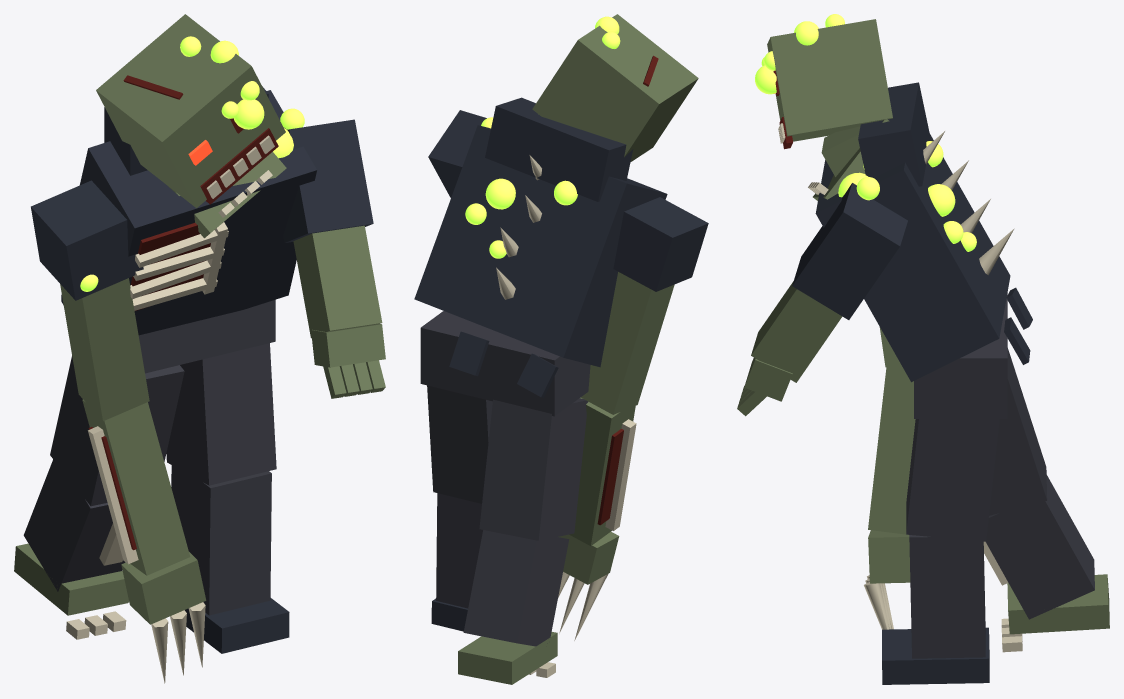
The model's file is zombie-el-brotado.glb.
3 renders of one model, left to right at view 1: azimuth 30°, elevation 25°; view 2: azimuth 150°, elevation 25°; view 3: azimuth 270°, elevation 25°, orthographic. The views are drawn at different scales.
Parts seen in each view (by area): view 1: pecho, craneo, muslo_izq, espinilla_izq, brazo_largo_der, antebrazo_largo_der, hombro_der, manga_izq, antebrazo_izq, espinilla_der, muslo_der, cadera (+20 smaller); view 2: pecho, craneo, muslo_der, espinilla_der, cadera, capucha, brazo_largo_der, hombro_der, muslo_izq, espinilla_izq, antebrazo_largo_der, pie_der (+10 smaller); view 3: pecho, craneo, muslo_izq, espinilla_der, espinilla_izq, manga_izq, cadera, antebrazo_largo_der, muslo_der, antebrazo_izq, capucha, pie_izq (+8 smaller).
Boxes of the visible parts, bbox=[...] form: pecho: bbox=[80, 90, 316, 335]; craneo: bbox=[96, 14, 285, 208]; muslo_izq: bbox=[166, 343, 276, 485]; espinilla_izq: bbox=[171, 465, 271, 615]; brazo_largo_der: bbox=[60, 278, 149, 421]; antebrazo_largo_der: bbox=[82, 399, 190, 575]; hombro_der: bbox=[31, 180, 143, 300]; manga_izq: bbox=[283, 119, 373, 242]; antebrazo_izq: bbox=[293, 225, 382, 338]; espinilla_der: bbox=[23, 459, 125, 591]; muslo_der: bbox=[50, 356, 184, 506]; cadera: bbox=[138, 299, 275, 373]; pecho: bbox=[414, 125, 667, 367]; craneo: bbox=[532, 14, 698, 161]; muslo_der: bbox=[479, 398, 587, 540]; espinilla_der: bbox=[463, 530, 569, 646]; cadera: bbox=[420, 311, 590, 416]; capucha: bbox=[485, 97, 633, 201]; brazo_largo_der: bbox=[581, 272, 674, 414]; hombro_der: bbox=[613, 197, 708, 291]; muslo_izq: bbox=[427, 385, 492, 503]; espinilla_izq: bbox=[436, 493, 482, 608]; antebrazo_largo_der: bbox=[569, 397, 635, 546]; pie_der: bbox=[458, 632, 557, 684]; pecho: bbox=[815, 133, 1010, 382]; craneo: bbox=[767, 19, 892, 141]; muslo_izq: bbox=[906, 419, 999, 541]; espinilla_der: bbox=[986, 475, 1094, 619]; espinilla_izq: bbox=[909, 535, 985, 658]; manga_izq: bbox=[792, 183, 907, 319]; cadera: bbox=[914, 293, 1007, 418]; antebrazo_largo_der: bbox=[868, 365, 915, 534]; muslo_der: bbox=[989, 348, 1047, 515]; antebrazo_izq: bbox=[751, 281, 842, 382]; capucha: bbox=[858, 82, 930, 186]; pie_izq: bbox=[882, 627, 989, 684].
Bounding box in the file's own units: 0.9552 × 2.11 × 1.11.
